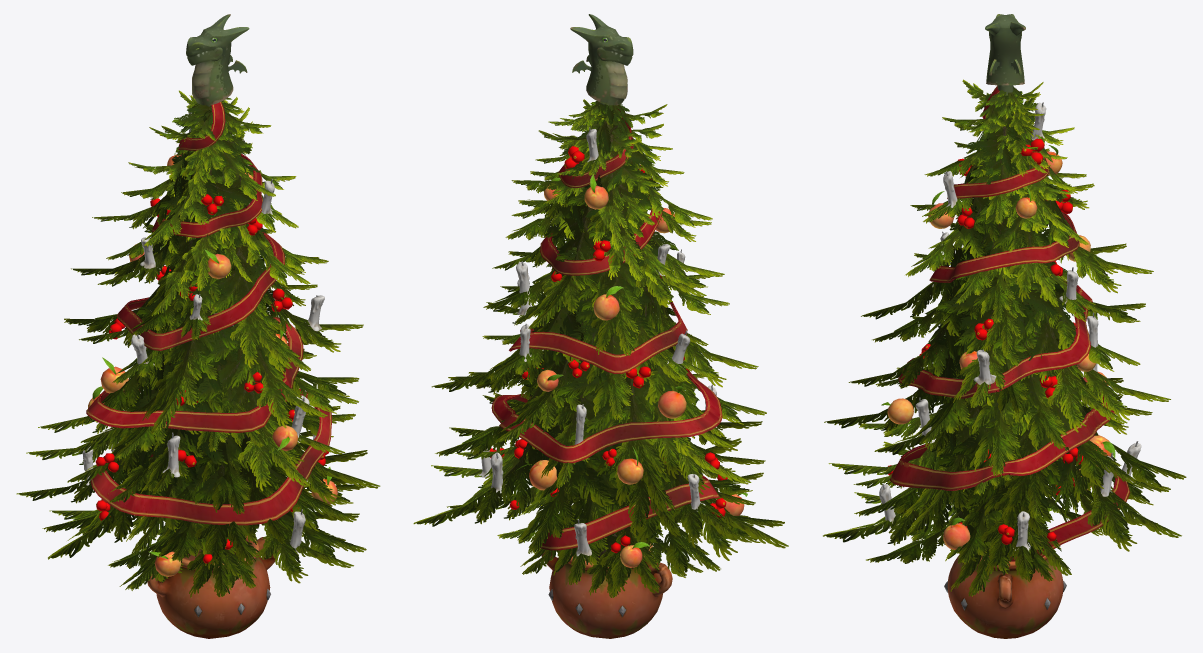
3 renders of one model, left to right at view 1: azimuth 30°, elevation 25°; view 2: azimuth 150°, elevation 25°; view 3: azimuth 270°, elevation 25°, orthographic.
Parts seen in each view (by area): view 1: SM_Wintumber_Tree_01_LOD0; view 2: SM_Wintumber_Tree_01_LOD0; view 3: SM_Wintumber_Tree_01_LOD0.
Boxes of the visible parts, x1,y1,x2,y2 form: SM_Wintumber_Tree_01_LOD0: (16,14,380,638); SM_Wintumber_Tree_01_LOD0: (413,14,788,638); SM_Wintumber_Tree_01_LOD0: (823,14,1186,638).
Size of the model in its own units: 1.77 by 2.99 by 1.62.
Materials: 5 (5 with a texture image).
